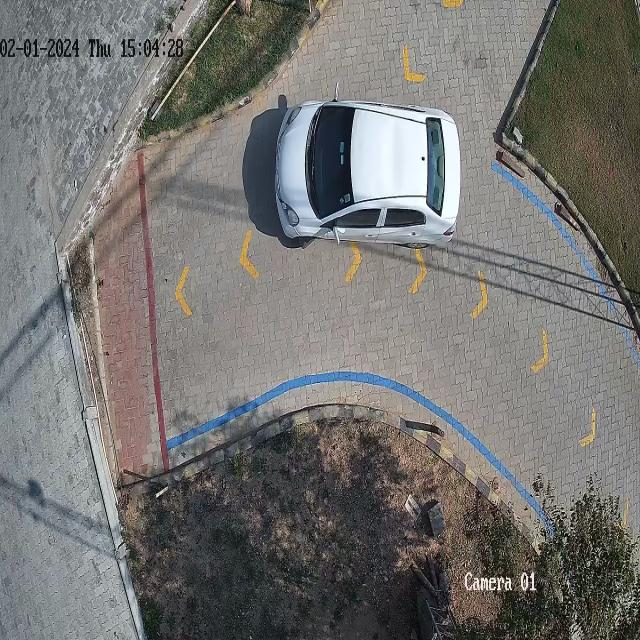car: (274, 102, 462, 245)
